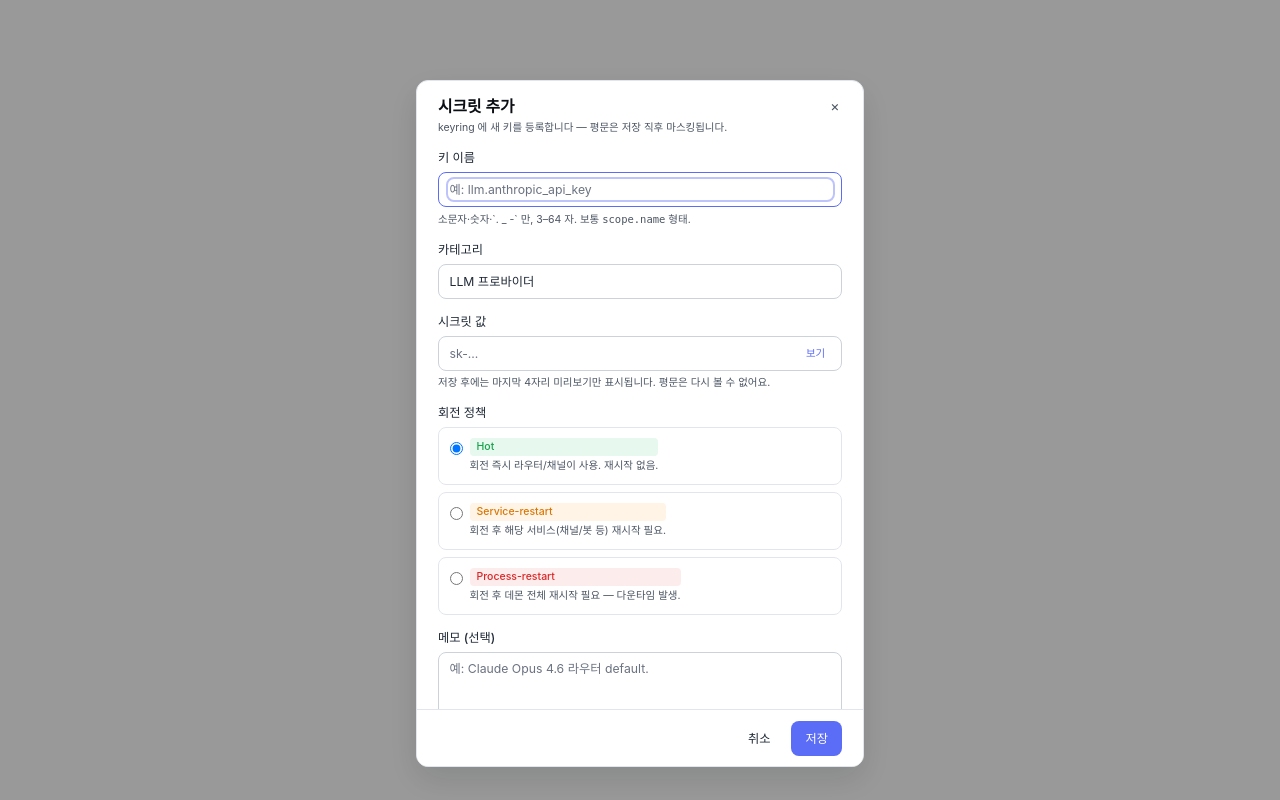
Test case: AddSecretModal › 키 이름이 패턴에 안 맞으면 검증 실패
In the field with test id "add-secret-key-name": coordinates (640, 190) [450,181,830,198], type "Bad Name!"
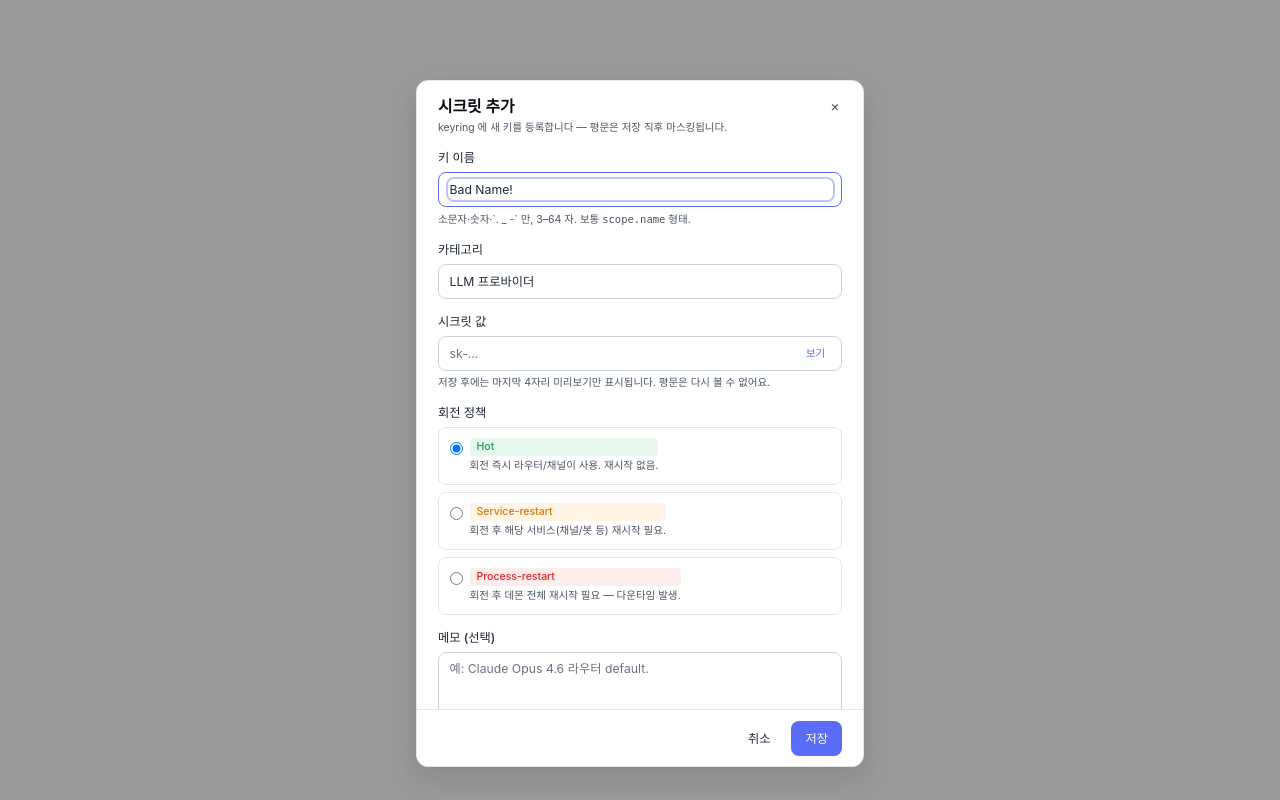
In the password field with test id "add-secret-value": coordinates (622, 353) [450,344,794,362], type "sk-secret-value"
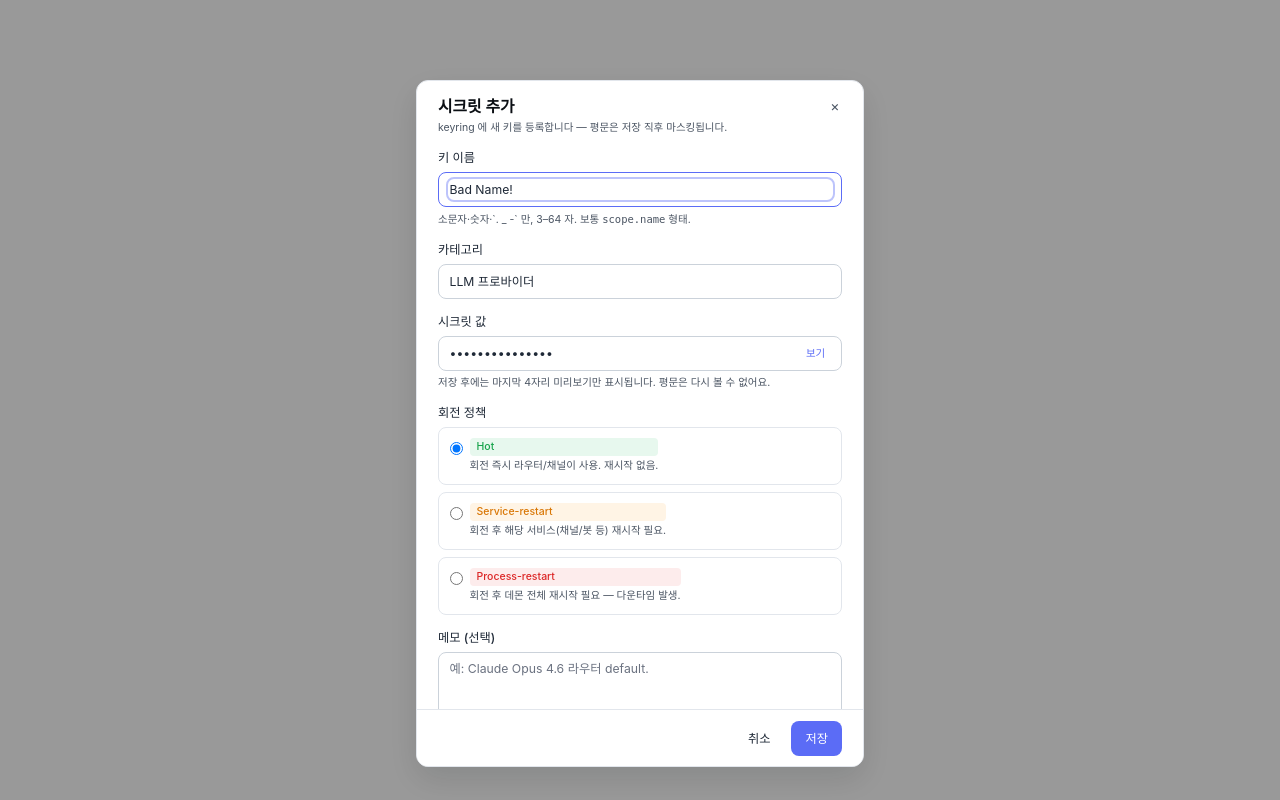
Click the button with test id "add-secret-submit": coordinates (817, 738) [792,721,842,756]
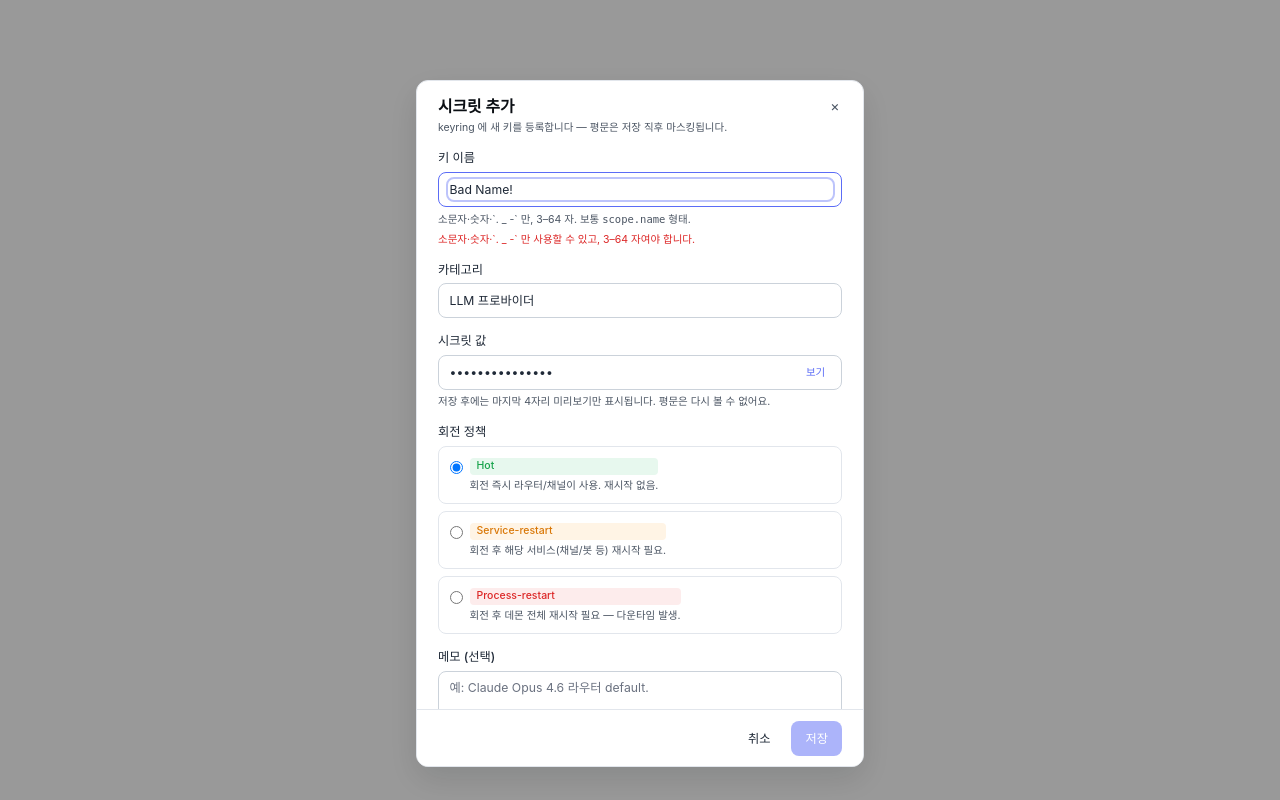
Expected: the message with test id "add-secret-key-name-error" shows "소문자", [438,232,695,246]
